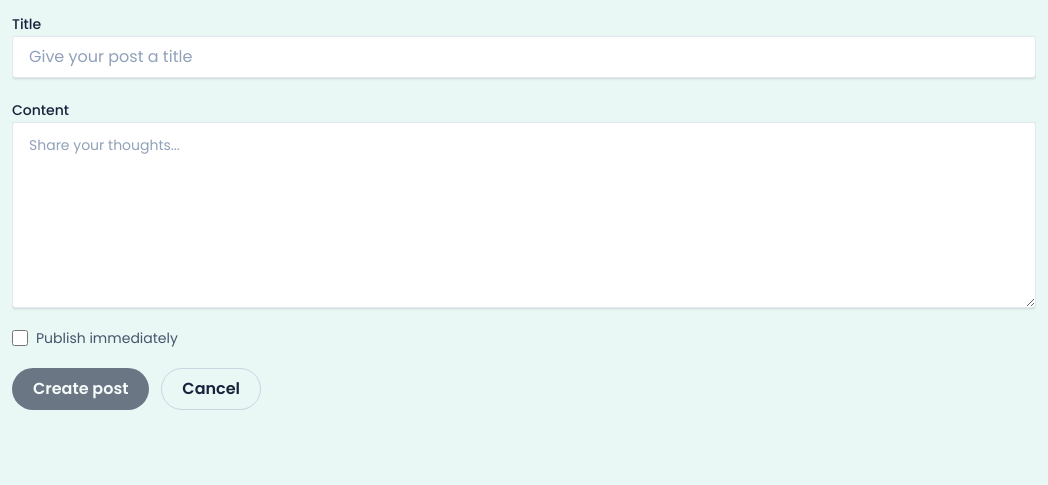
Test: PostForm › surface submission errors and keeps user input intact
Type "Failing submission" into the field labelled "Title" at (524, 57), box [12, 36, 1036, 78]
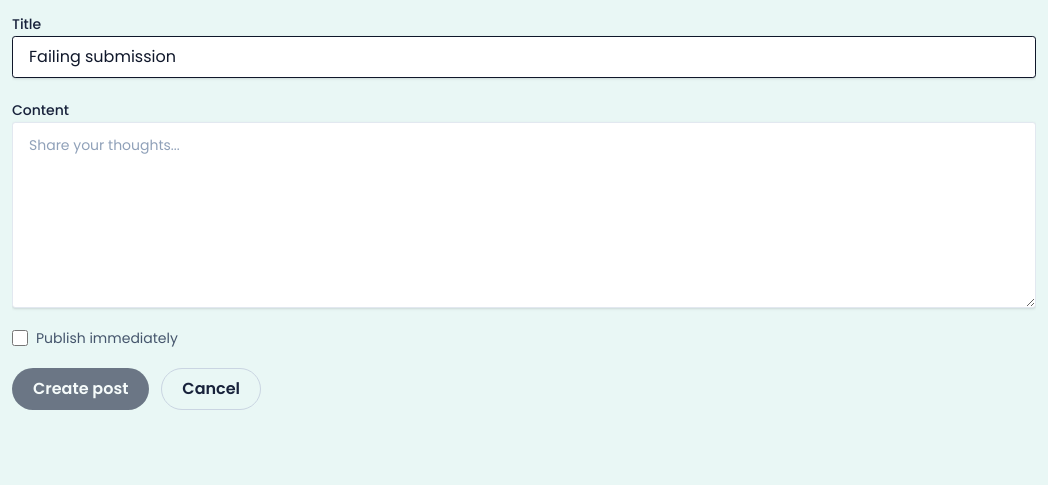
Type "Something went wrong" into the text box labelled "Content" at (524, 215), box [12, 122, 1036, 308]
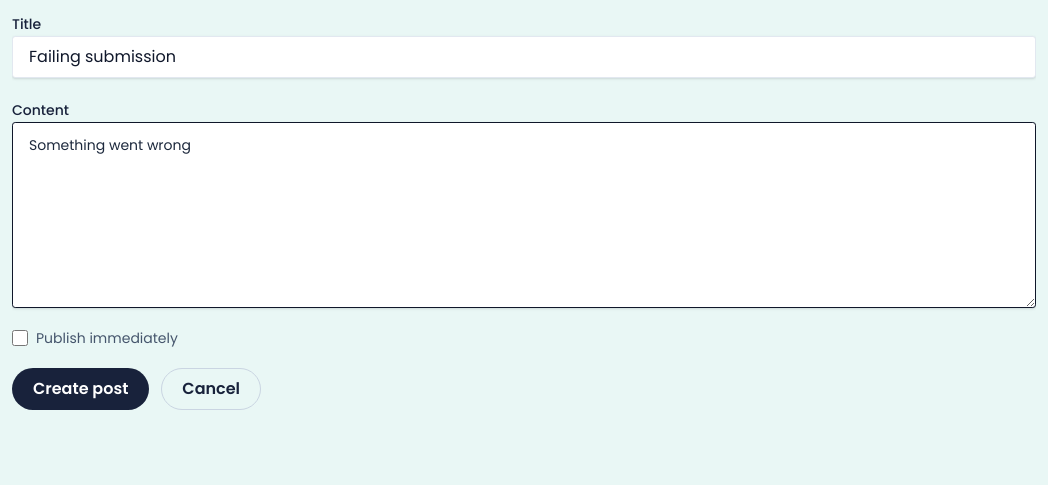
Click the button "Create post" at (81, 389), box [12, 368, 149, 410]
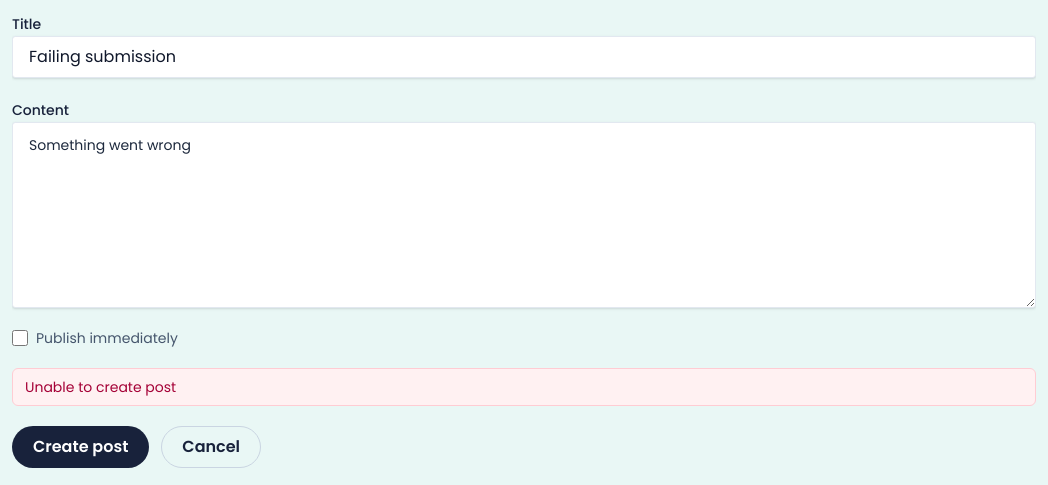
Check: the text "Unable to create post" is shown, box [12, 368, 1036, 406]
